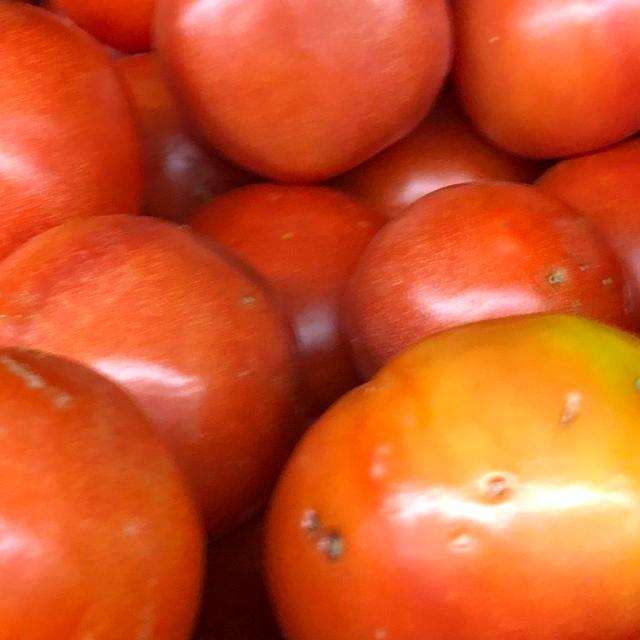tomato: (247, 277, 640, 640), (0, 312, 205, 640), (155, 0, 447, 175), (0, 0, 152, 310)
